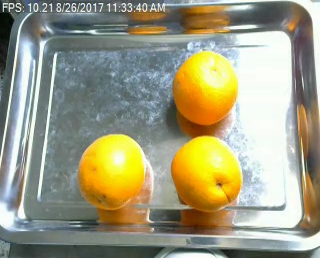Orange: (171, 134, 241, 212), (77, 134, 145, 209), (172, 50, 239, 124)
